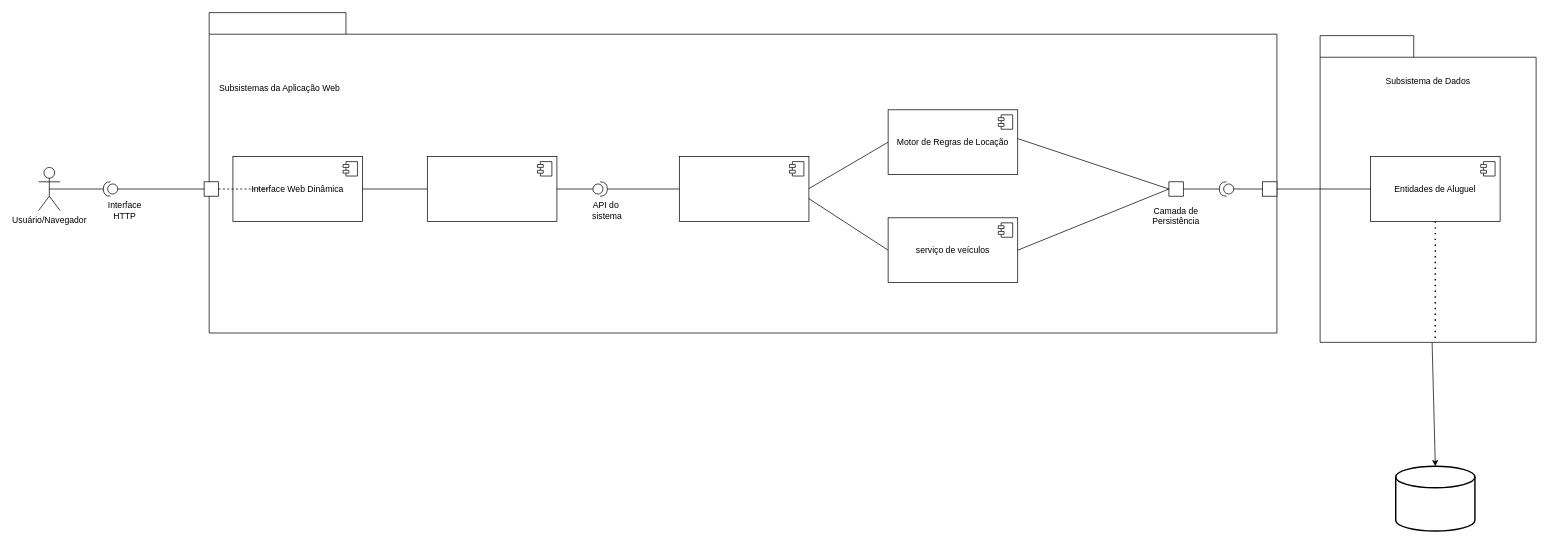
Some shapes in this 1549 by 544 pixel diagram are drawn without their labels. Here are the shapes that lost their labels. From the top down, the centre of each, then its label:
point (492, 188): Serviço de Autenticação
point (744, 188): Serviço de locação
point (1435, 498): Banco de Dados
